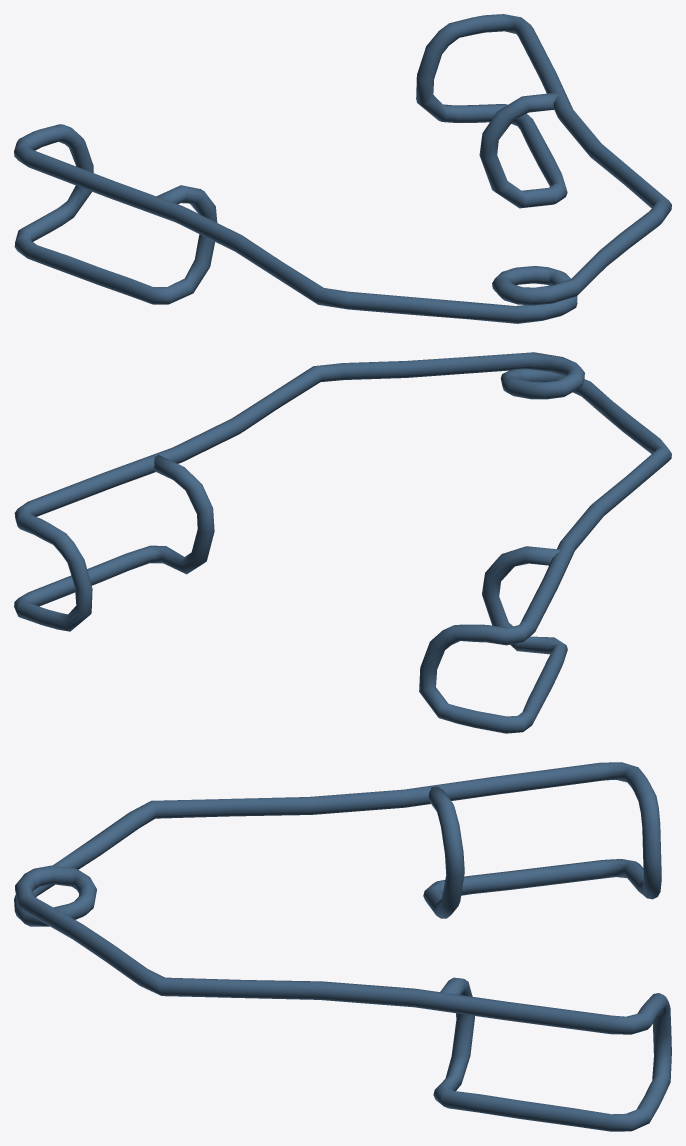
Rendered from Eyelid_opener.fbx.
3 views of the same model, one above another, from view 1: azimuth 30°, elevation 25°; view 2: azimuth 150°, elevation 25°; view 3: azimuth 270°, elevation 25° (orthographic). The views are drawn at different scales.
Parts seen in each view (by area): view 1: Eyelid_opener; view 2: Eyelid_opener; view 3: Eyelid_opener.
Boxes of the visible parts, box(x1,y1,x2,y2) form: Eyelid_opener: box(14, 14, 671, 323); Eyelid_opener: box(14, 352, 671, 733); Eyelid_opener: box(14, 762, 671, 1131).
Size of the model in its own units: 0.997 by 0.2136 by 1.05.
